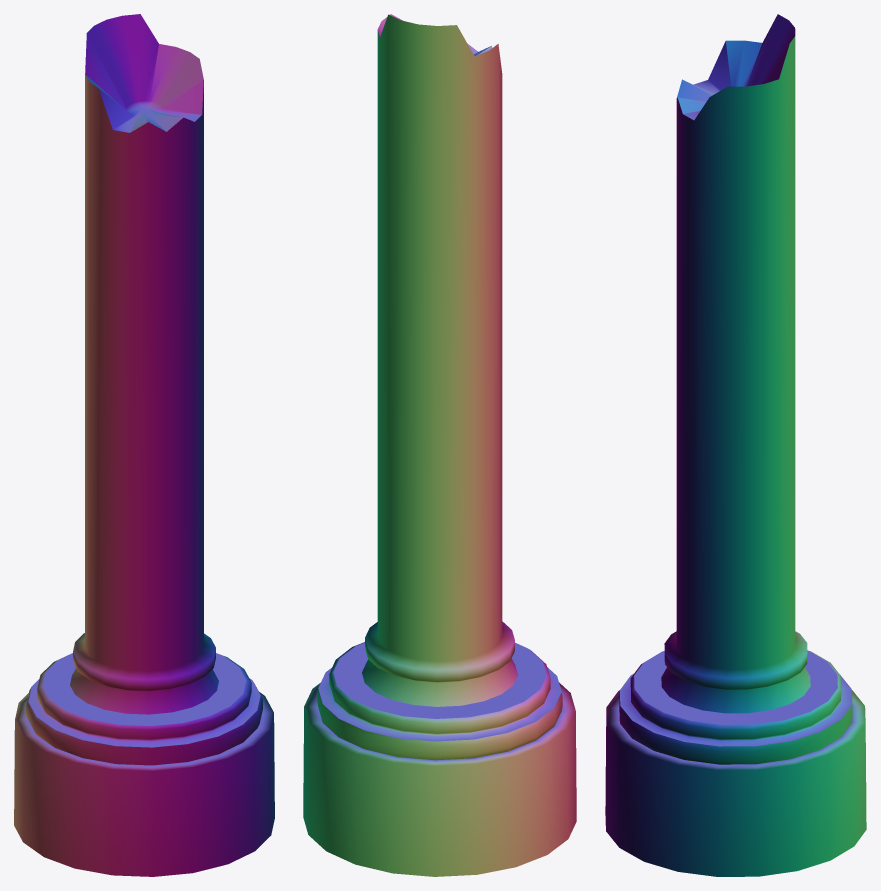
Rendered from Pillar 1.fbx.
The picture shows the model from 3 angles, left to right: view 1: azimuth 30°, elevation 25°; view 2: azimuth 150°, elevation 25°; view 3: azimuth 270°, elevation 25°; orthographic projection. The views are drawn at different scales.
Parts seen in each view (by area): view 1: pCylinder14; view 2: pCylinder14; view 3: pCylinder14.
Boxes of the visible parts, x1,y1,x2,y2 form: pCylinder14: (14, 14, 274, 876); pCylinder14: (303, 14, 576, 876); pCylinder14: (605, 14, 866, 876).
Size of the model in its own units: 1.25 by 4.16 by 1.25.
